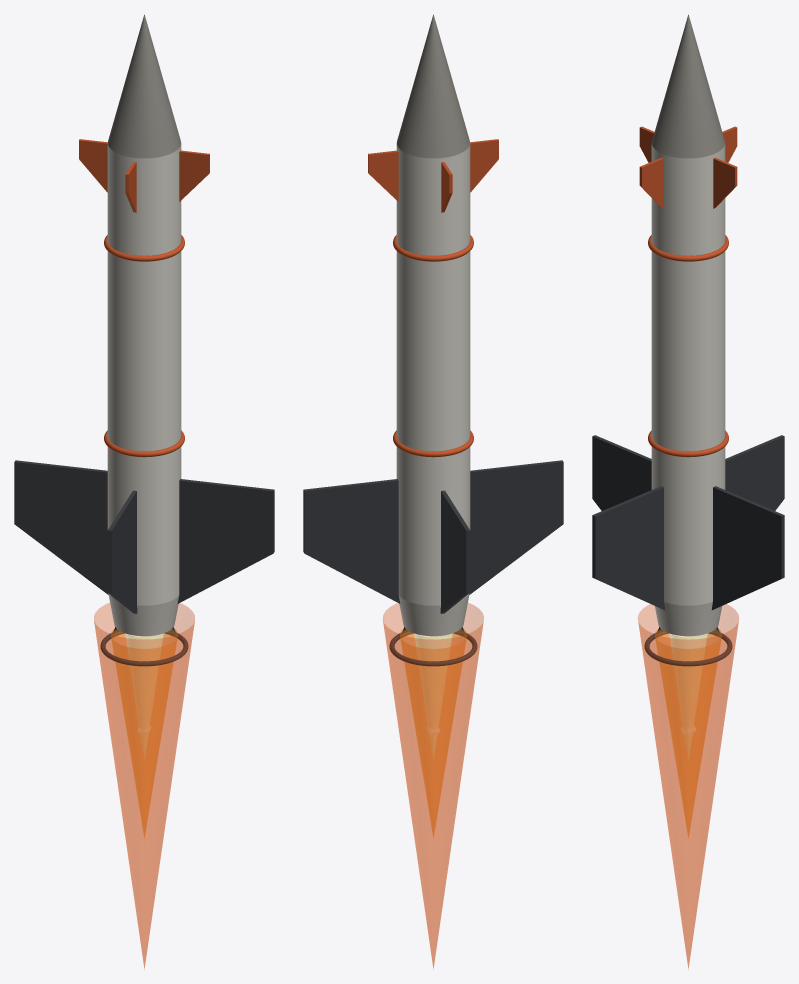
The model's file is missile.glb.
The picture shows the model from 3 angles, left to right: view 1: azimuth 30°, elevation 25°; view 2: azimuth 150°, elevation 25°; view 3: azimuth 270°, elevation 25°; orthographic projection.
Parts seen in each view (by area): view 1: body, plume_outer, tail_fin_2, tail_fin_4, plume_mid, nose_cone, tail_fin_1, plume_core, boat_tail, canard_2, canard_4, nozzle_lip (+2 smaller); view 2: body, plume_outer, tail_fin_3, tail_fin_1, plume_mid, nose_cone, tail_fin_4, plume_core, boat_tail, canard_3, canard_1, nozzle_lip (+2 smaller); view 3: body, plume_outer, tail_fin_2, tail_fin_3, plume_mid, nose_cone, tail_fin_1, tail_fin_4, plume_core, boat_tail, canard_2, canard_3 (+3 smaller).
Part boxes in pixels (left/top/right/bottom): body: left=107, top=143, right=181, bottom=605; plume_outer: left=94, top=603, right=194, bottom=969; tail_fin_2: left=177, top=479, right=274, bottom=603; tail_fin_4: left=14, top=460, right=108, bottom=594; plume_mid: left=111, top=628, right=177, bottom=838; nose_cone: left=108, top=14, right=180, bottom=158; tail_fin_1: left=107, top=490, right=137, bottom=613; plume_core: left=125, top=633, right=163, bottom=758; boat_tail: left=108, top=593, right=178, bottom=636; canard_2: left=179, top=150, right=209, bottom=201; canard_4: left=79, top=139, right=107, bottom=192; nozzle_lip: left=100, top=631, right=188, bottom=666; body: left=396, top=143, right=470, bottom=605; plume_outer: left=383, top=602, right=483, bottom=969; tail_fin_3: left=303, top=479, right=400, bottom=603; tail_fin_1: left=469, top=460, right=563, bottom=594; plume_mid: left=400, top=628, right=466, bottom=838; nose_cone: left=397, top=14, right=469, bottom=158; tail_fin_4: left=440, top=490, right=470, bottom=613; plume_core: left=414, top=633, right=452, bottom=758; boat_tail: left=399, top=593, right=469, bottom=636; canard_3: left=368, top=150, right=398, bottom=201; canard_1: left=470, top=139, right=498, bottom=192; nozzle_lip: left=389, top=631, right=477, bottom=666; body: left=651, top=143, right=725, bottom=605; plume_outer: left=638, top=604, right=738, bottom=969; tail_fin_2: left=592, top=486, right=665, bottom=610; tail_fin_3: left=711, top=486, right=784, bottom=610; plume_mid: left=655, top=628, right=721, bottom=838; nose_cone: left=652, top=14, right=724, bottom=158; tail_fin_1: left=592, top=435, right=651, bottom=510; tail_fin_4: left=725, top=435, right=784, bottom=510; plume_core: left=669, top=633, right=707, bottom=758; boat_tail: left=655, top=602, right=721, bottom=636; canard_2: left=639, top=157, right=663, bottom=208; canard_3: left=713, top=157, right=737, bottom=208.
Size of the model in its own units: 0.8386 by 4.6 by 0.8386.
